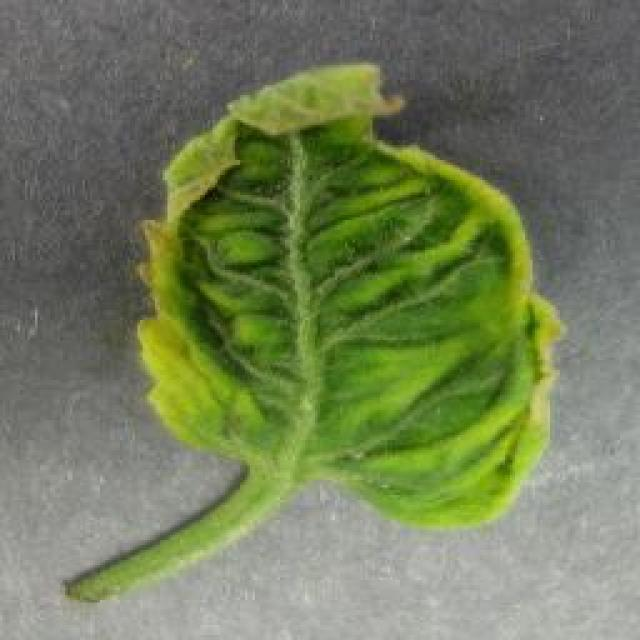Tom_Yellow_Leaf_Curl_Virus: (155, 91, 534, 495)
